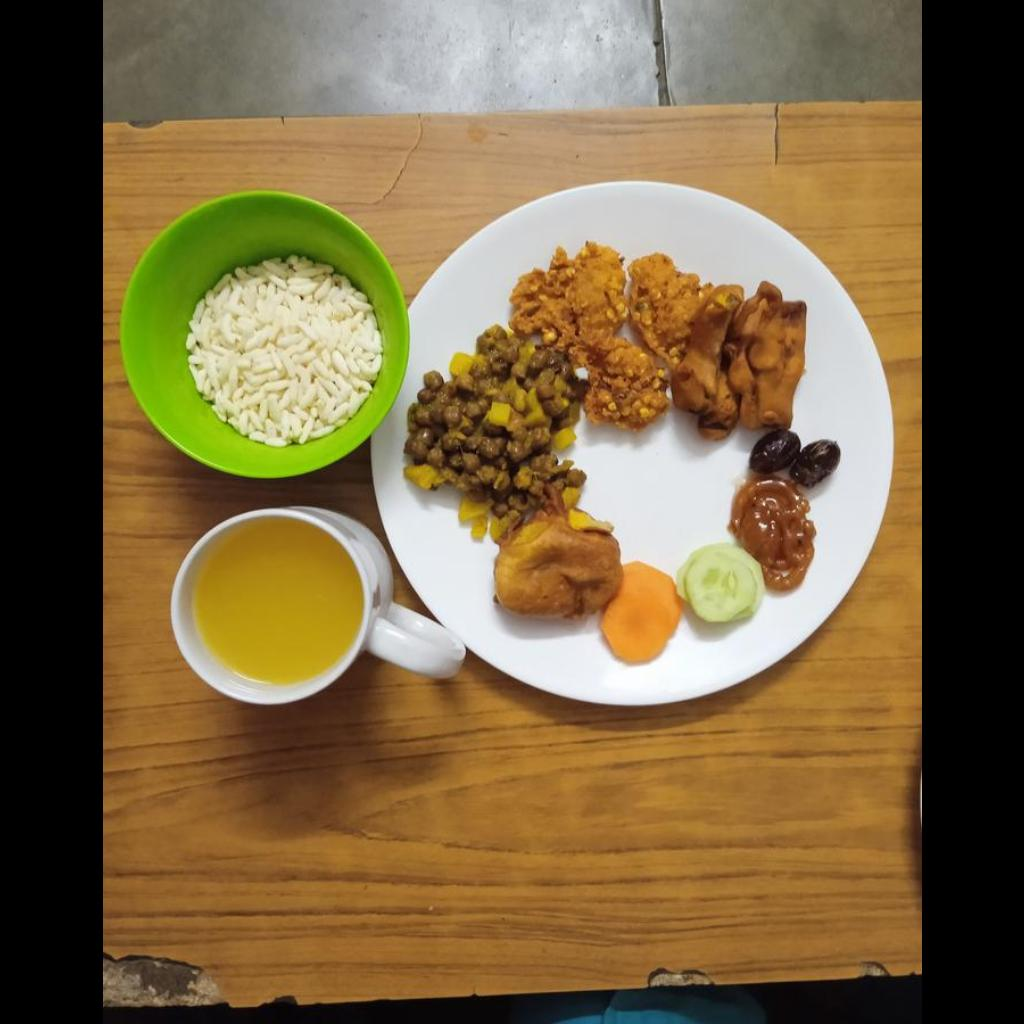beguni: (671, 282, 804, 438)
carrot: (598, 561, 681, 664)
chola: (400, 327, 584, 539)
chop-alu: (493, 514, 621, 619)
cucumber: (677, 543, 763, 625)
dates: (748, 429, 839, 488)
jilapi: (731, 484, 817, 587)
juice: (193, 525, 352, 681)
piyaju: (512, 241, 712, 430)
puffed-rice: (173, 263, 379, 444)
